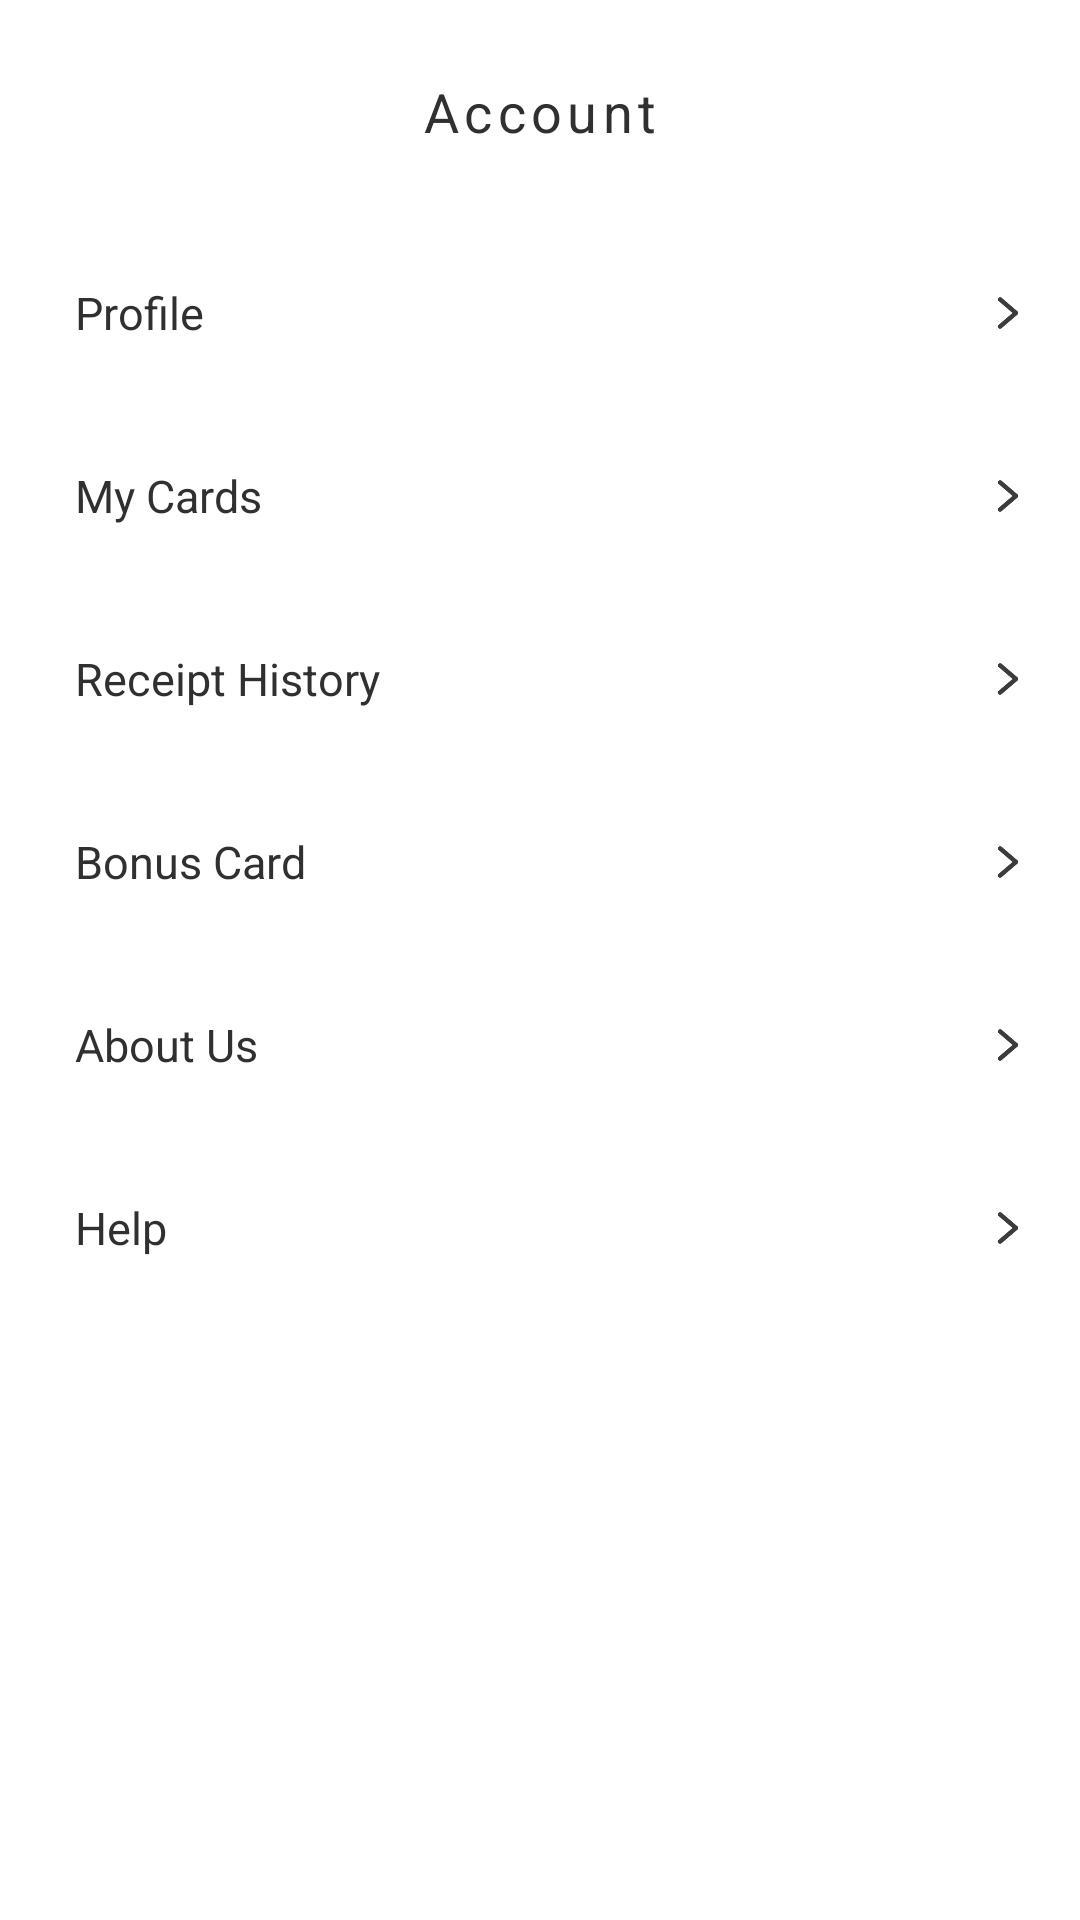

Point at icon controls on the screen. Image size 1080 x 1920, points as (x,y).
next: (1008,313), (1008,496), (1008,679), (1008,862), (1008,1045), (1008,1228)
